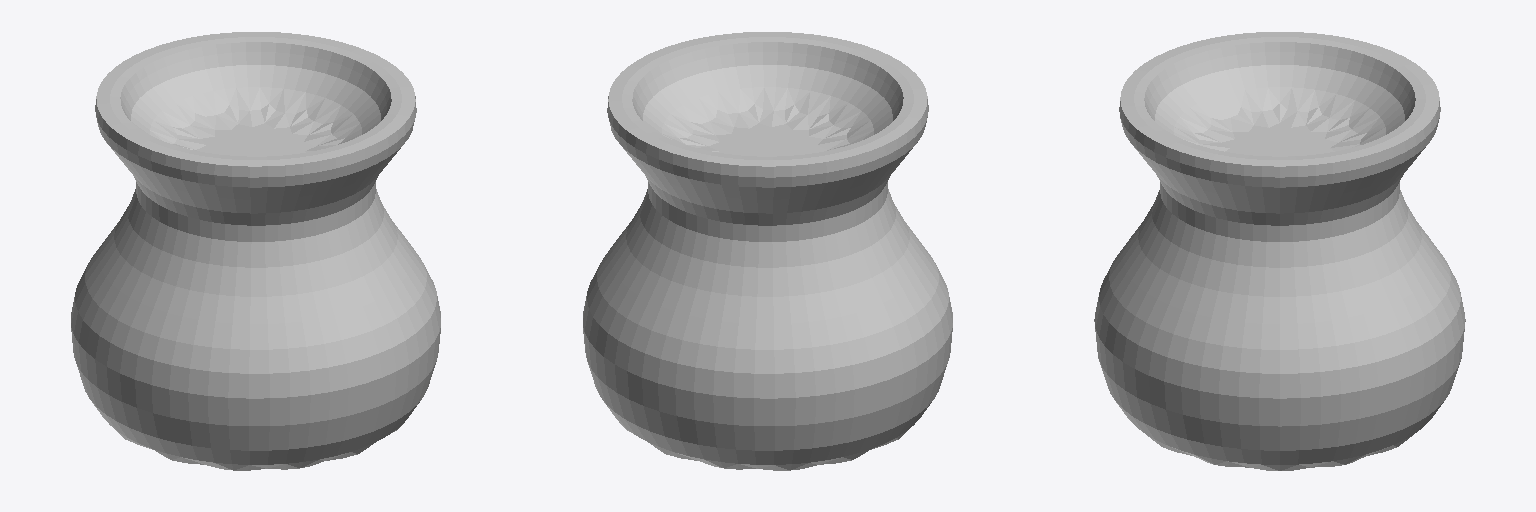
File: ChonkVase.obj
3 renders of one model, left to right at view 1: azimuth 30°, elevation 25°; view 2: azimuth 150°, elevation 25°; view 3: azimuth 270°, elevation 25°, orthographic.
Visible parts, largest first — view 1: ChonkVase_Cylinder; view 2: ChonkVase_Cylinder; view 3: ChonkVase_Cylinder.
Part boxes in pixels (x1,y1,x2,y2): ChonkVase_Cylinder: (71,32,440,470); ChonkVase_Cylinder: (583,32,952,470); ChonkVase_Cylinder: (1094,32,1465,470).
Bounding box in the file's own units: 0.5327 × 0.4981 × 0.5327.